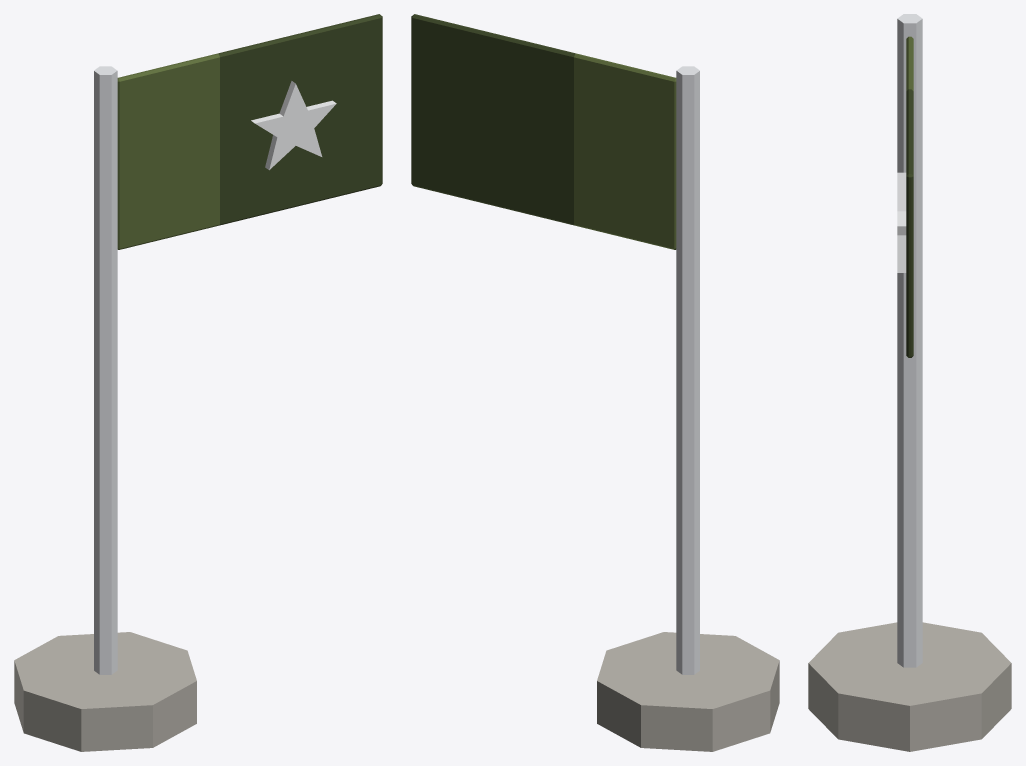
File: ArmyFlag.fbx
3 renders of one model, left to right at view 1: azimuth 30°, elevation 25°; view 2: azimuth 150°, elevation 25°; view 3: azimuth 270°, elevation 25°, orthographic. The views are drawn at different scales.
Parts seen in each view (by area): view 1: ArmyFlag; view 2: ArmyFlag; view 3: ArmyFlag.
Boxes of the visible parts, left/top/right/bottom form: ArmyFlag: left=14, top=14, right=382, bottom=751; ArmyFlag: left=411, top=14, right=779, bottom=751; ArmyFlag: left=808, top=14, right=1011, bottom=751.
Size of the model in its own units: 3.5 by 6 by 1.6.
Materials: 1 (1 with a texture image).
